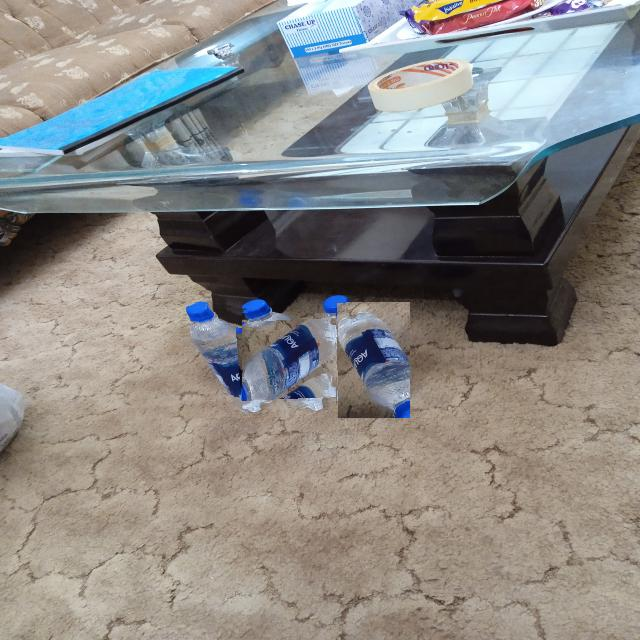Plastic: (242, 313, 338, 409), (336, 302, 411, 418), (183, 302, 248, 418)
